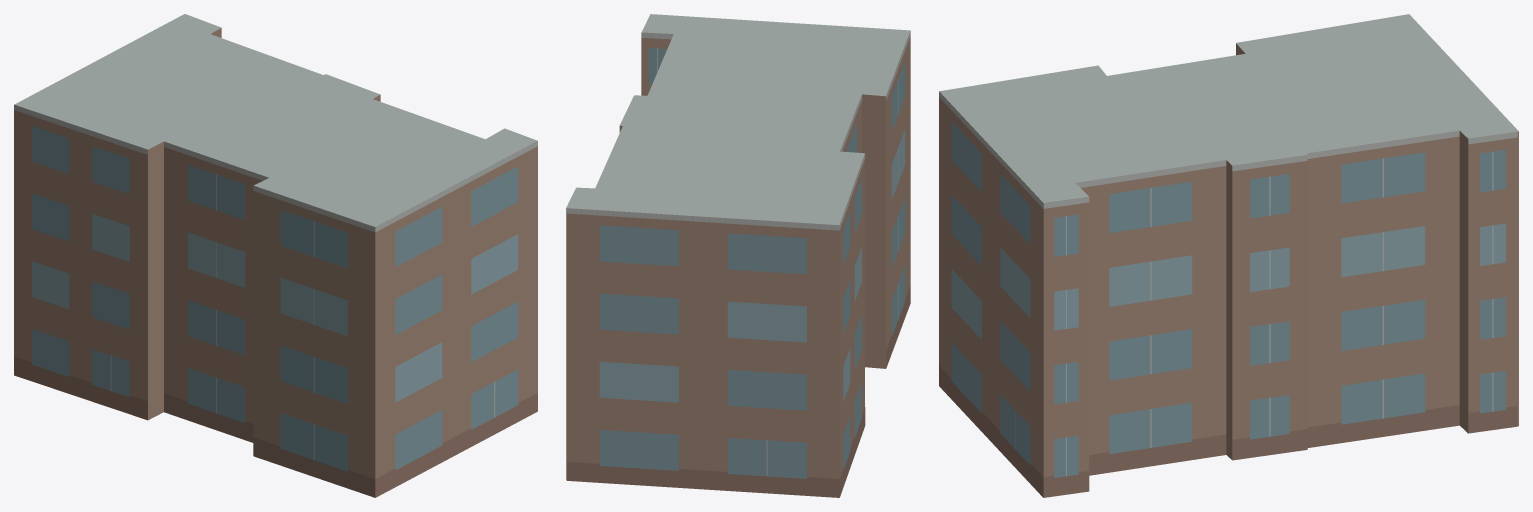
File: survey-upis-32772119.glb
The picture shows the model from 3 angles, left to right: view 1: azimuth 30°, elevation 25°; view 2: azimuth 150°, elevation 25°; view 3: azimuth 270°, elevation 25°; orthographic projection. The views are drawn at different scales.
Visible parts, largest first — view 1: survey-upis-32772119.tmp; view 2: survey-upis-32772119.tmp; view 3: survey-upis-32772119.tmp.
Part boxes in pixels (x1,y1,x2,y2): survey-upis-32772119.tmp: (14,14,537,497); survey-upis-32772119.tmp: (566,14,910,497); survey-upis-32772119.tmp: (939,14,1518,497).
Size of the model in its own units: 17.11 by 12.43 by 22.16.
